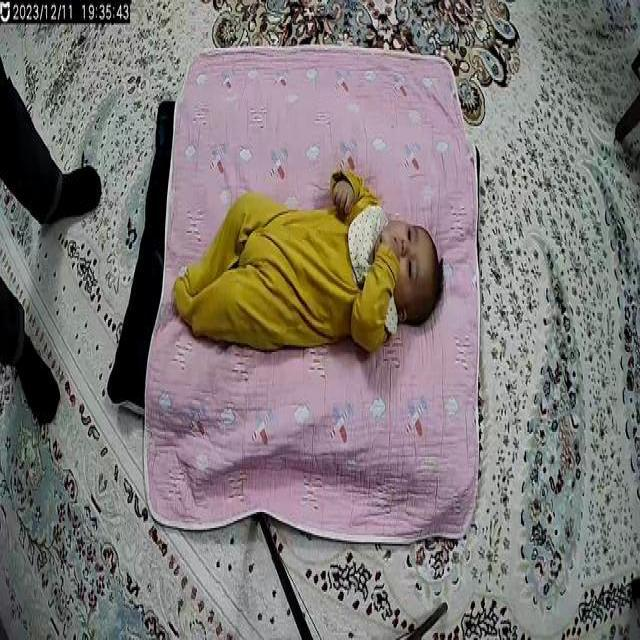baby: (170, 168, 448, 360)
